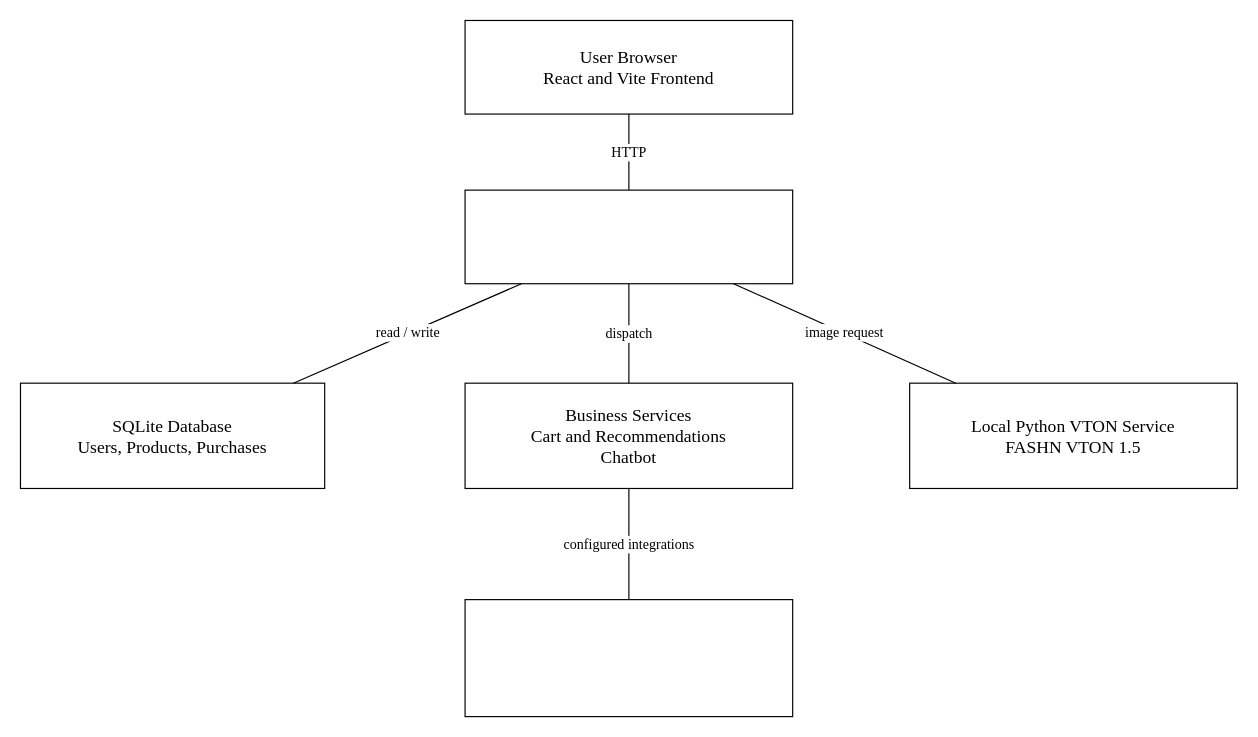
This 1258x737 diagram has some shape labels left out. The shapes that lost their labels are listed below. From the top down, each one's centre as x and y in pixels, then its label:
At pixel 628 236: "Express REST API JWT and route middleware".
At pixel 628 657: "Optional External Services Google OAuth and Email SMS and WhatsApp".
